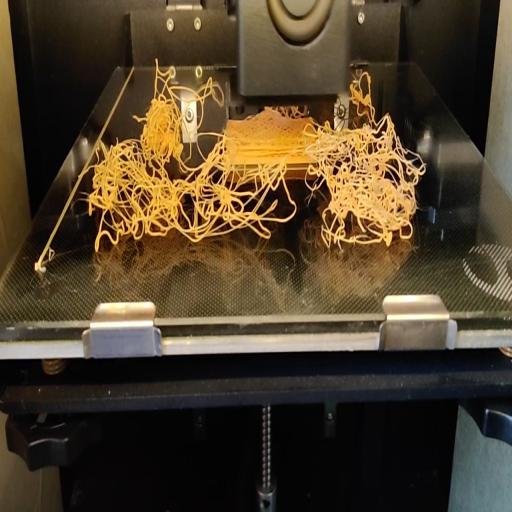spaghetti: (81, 97, 426, 253), (151, 57, 225, 104), (352, 70, 372, 97)
